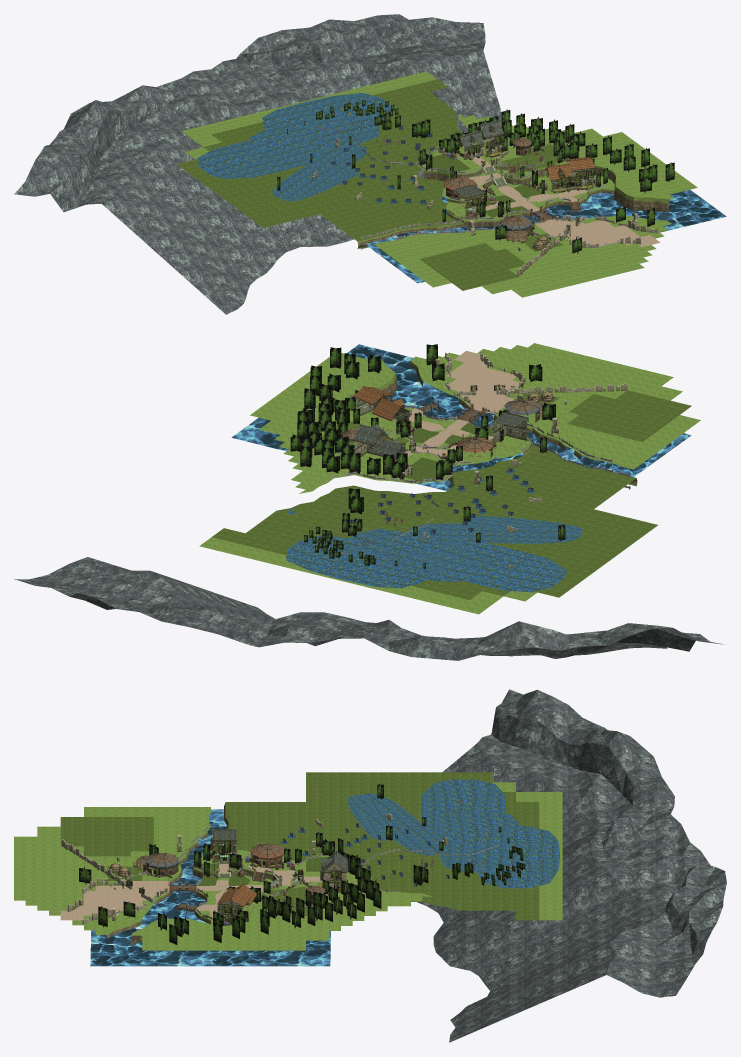
The model's file is Armorica.glb.
3 renders of one model, top to bottom at view 1: azimuth 30°, elevation 25°; view 2: azimuth 150°, elevation 25°; view 3: azimuth 270°, elevation 25°, orthographic. The views are drawn at different scales.
Parts seen in each view (by area): view 1: Object.1211, Object.1207, Object.1204, Object.1213, Object.1210, Object.1212, Object.1229, Object.1208, Object.1573, Object.1230, Object.1223, Object.1205 (+64 smaller); view 2: Object.1211, Object.1573, Object.1206, Object.1297, Object.1320, Object.1241, Object.1285, Object.1321, Object.1237, Object.1574, Object.1571, Object.1228 (+74 smaller); view 3: Object.1211, Object.1205, Object.1208, Object.1212, Object.1223, Object.1204, Object.1573, Object.1206, Object.1230, Object.1221, Object.1241, Object.1229 (+61 smaller).
Part boxes in pixels (x1,y1,x2,y2): Object.1211: [102, 51, 501, 314]; Object.1207: [259, 26, 338, 71]; Object.1204: [78, 110, 157, 168]; Object.1213: [142, 84, 223, 130]; Object.1210: [14, 154, 100, 212]; Object.1212: [103, 85, 182, 135]; Object.1229: [354, 14, 436, 54]; Object.1208: [56, 153, 128, 204]; Object.1573: [240, 123, 330, 157]; Object.1230: [320, 19, 380, 62]; Object.1223: [198, 78, 267, 116]; Object.1205: [42, 121, 118, 176]; Object.1211: [110, 564, 667, 656]; Object.1573: [390, 540, 488, 583]; Object.1206: [476, 621, 560, 652]; Object.1297: [493, 461, 587, 498]; Object.1320: [577, 514, 657, 551]; Object.1241: [514, 346, 608, 383]; Object.1285: [590, 390, 678, 427]; Object.1321: [535, 533, 620, 570]; Object.1237: [564, 361, 651, 393]; Object.1574: [342, 528, 441, 573]; Object.1571: [430, 530, 537, 566]; Object.1228: [88, 564, 161, 602]; Object.1211: [417, 744, 654, 1042]; Object.1205: [533, 697, 604, 769]; Object.1208: [482, 704, 541, 766]; Object.1212: [593, 746, 661, 817]; Object.1223: [592, 816, 664, 862]; Object.1204: [536, 729, 607, 793]; Object.1573: [438, 809, 522, 846]; Object.1206: [588, 729, 653, 793]; Object.1230: [648, 893, 722, 938]; Object.1221: [596, 848, 663, 894]; Object.1241: [14, 866, 78, 895]; Object.1229: [645, 921, 716, 967].
Size of the model in its own units: 232 by 52.67 by 244.
Materials: 22 (22 with a texture image).
